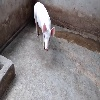heo: (32, 1, 56, 54)
